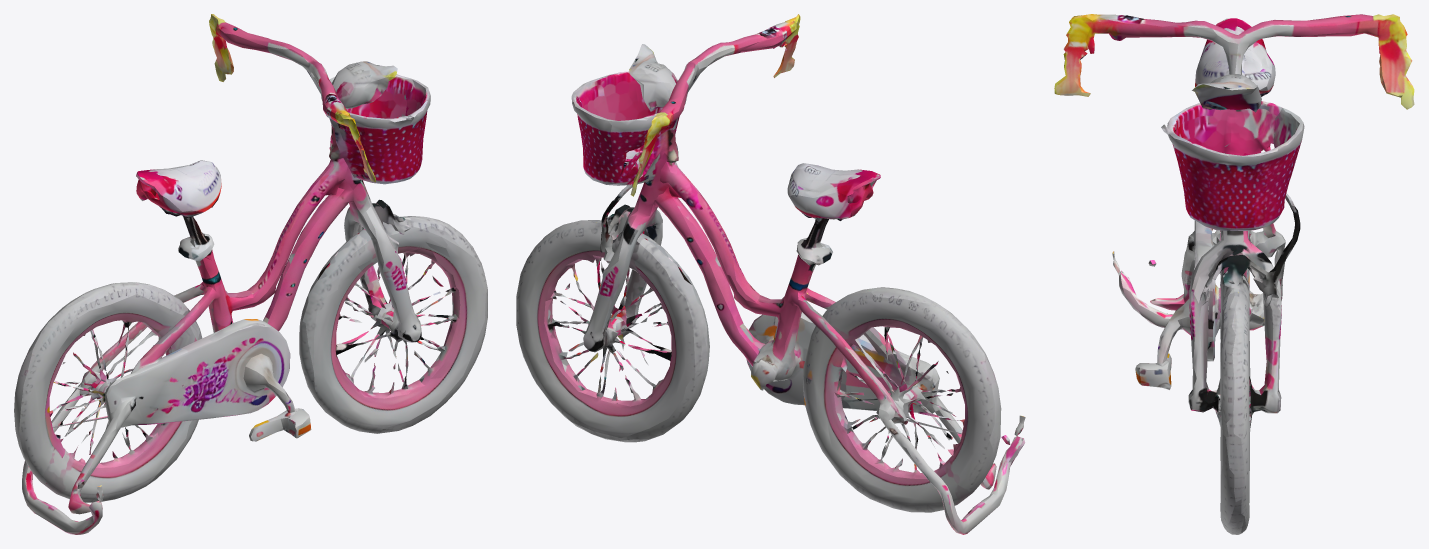
The model's file is bicycle_textured.glb.
The picture shows the model from 3 angles, left to right: view 1: azimuth 30°, elevation 25°; view 2: azimuth 150°, elevation 25°; view 3: azimuth 270°, elevation 25°; orthographic projection. The views are drawn at different scales.
Visible parts, largest first — view 1: bicycle_textured; view 2: bicycle_textured; view 3: bicycle_textured.
Boxes of the visible parts, <box> form: bicycle_textured: <box>14,14,487,534</box>; bicycle_textured: <box>516,14,1025,534</box>; bicycle_textured: <box>1054,14,1414,534</box>.
Bounding box in the file's own units: 0.9998 × 0.8113 × 0.5824.
Materials: 1 (1 with a texture image).
